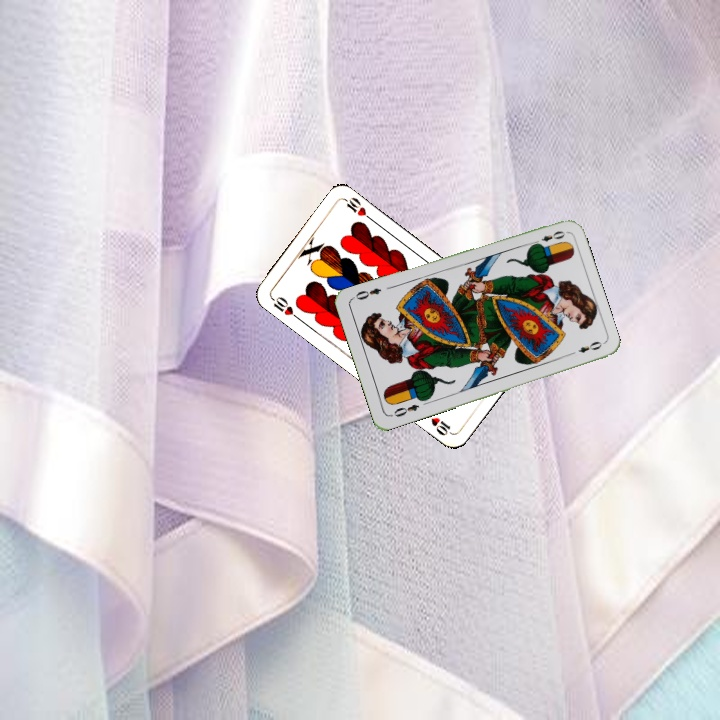EO: (528, 227, 567, 248), (389, 400, 422, 419)
H10: (267, 292, 302, 322)
